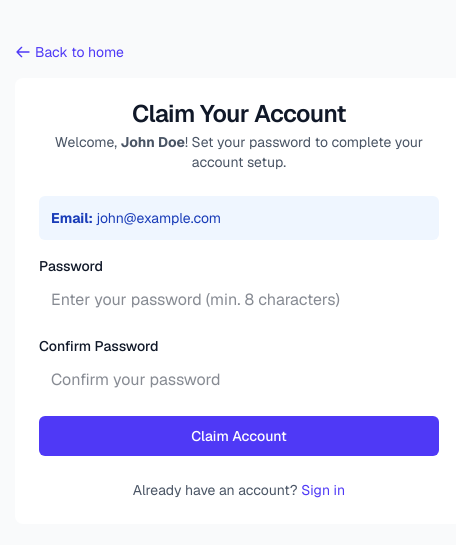
Test case: ClaimAccountPage › should show error when passwords do not match
The width and height of the screenshot is (456, 545).
Step 1. Type "password123" into the password field labelled "Password" → (239, 300), box [39,280,439,320]
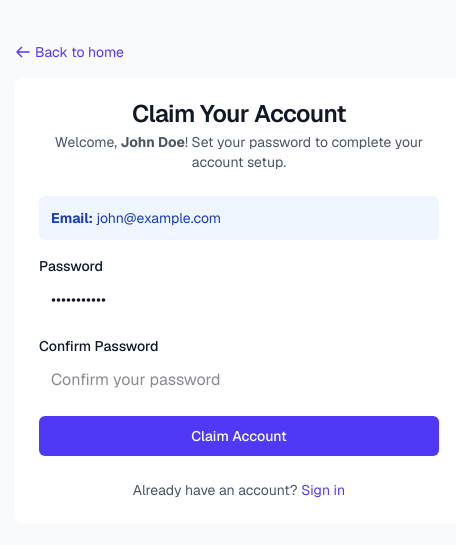
Step 2. Type "different123" into the password field labelled "Confirm Password" → (239, 380), box [39,360,439,400]
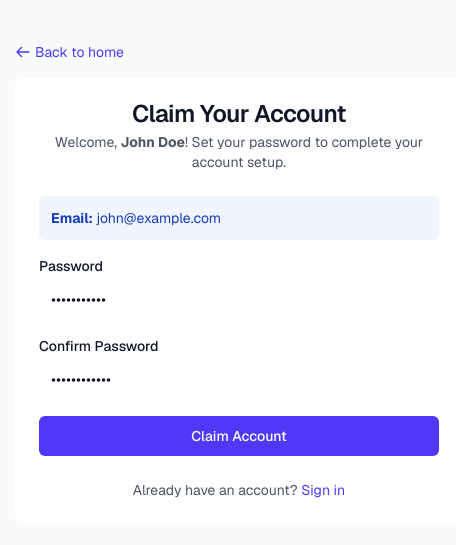
Step 3. Click the button "Claim Account" → (239, 436), box [39,416,439,456]
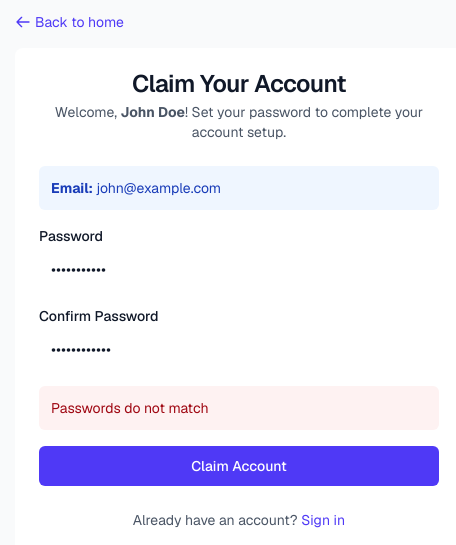
expect the text "Passwords do not match" is shown: met, box [51,399,208,417]
